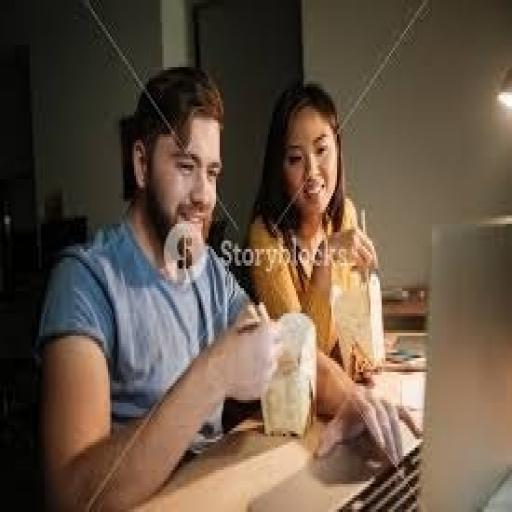eating: (32, 62, 412, 509), (244, 81, 383, 378)
